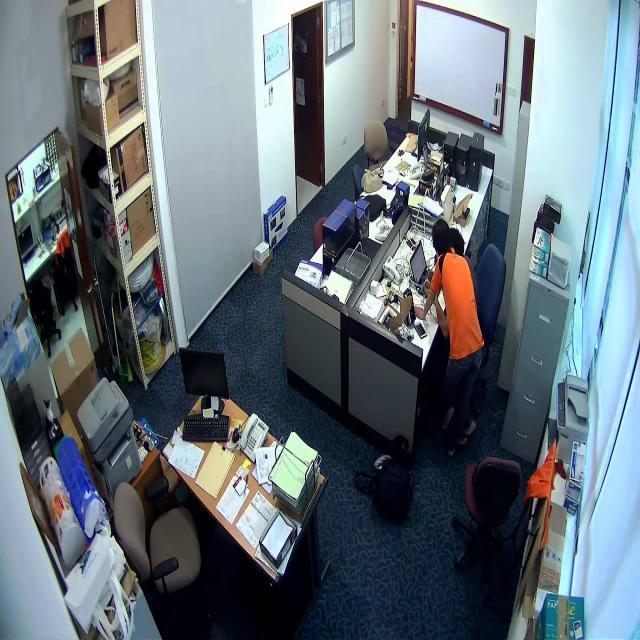table: (295, 118, 498, 360), (161, 366, 333, 595)
